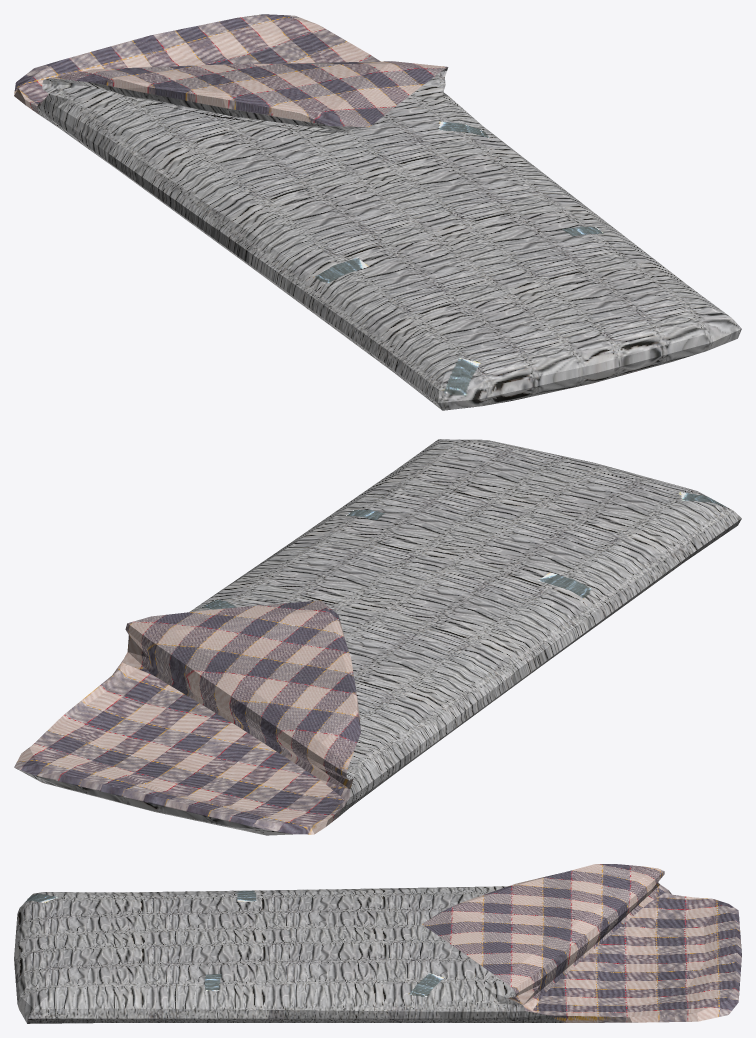
File: SleepingBagMaster.fbx
3 renders of one model, top to bottom at view 1: azimuth 30°, elevation 25°; view 2: azimuth 150°, elevation 25°; view 3: azimuth 270°, elevation 25°, orthographic. The views are drawn at different scales.
Parts seen in each view (by area): view 1: Cube.001; view 2: Cube.001; view 3: Cube.001.
Boxes of the visible parts, <box> form: Cube.001: <box>14,14,741,410</box>; Cube.001: <box>14,439,741,835</box>; Cube.001: <box>14,864,741,1023</box>.
Size of the model in its own units: 491 by 119 by 1216.
